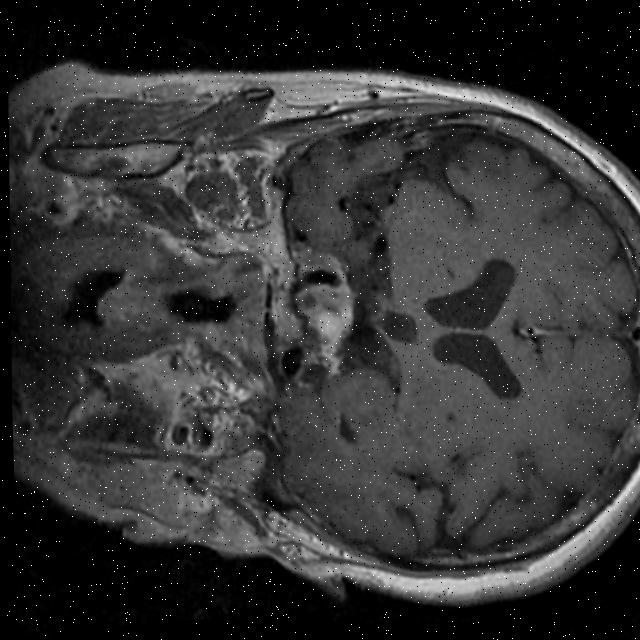Pituitary: (294, 277, 359, 345)
